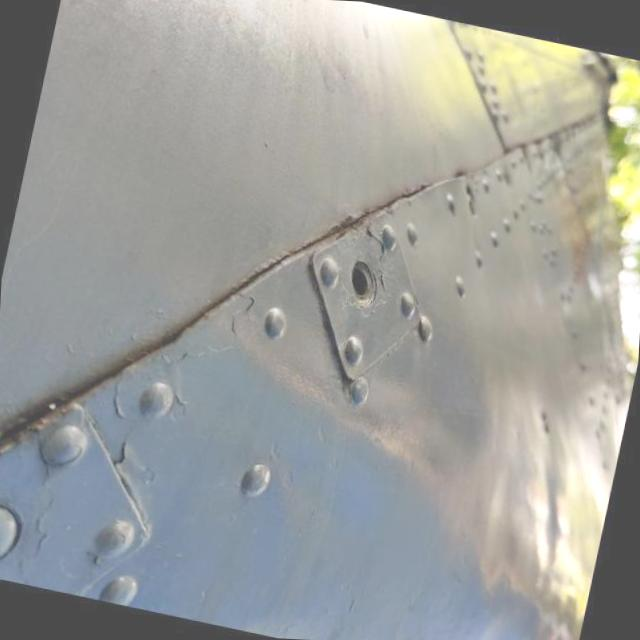Missing Fastener: (352, 260, 380, 306)
